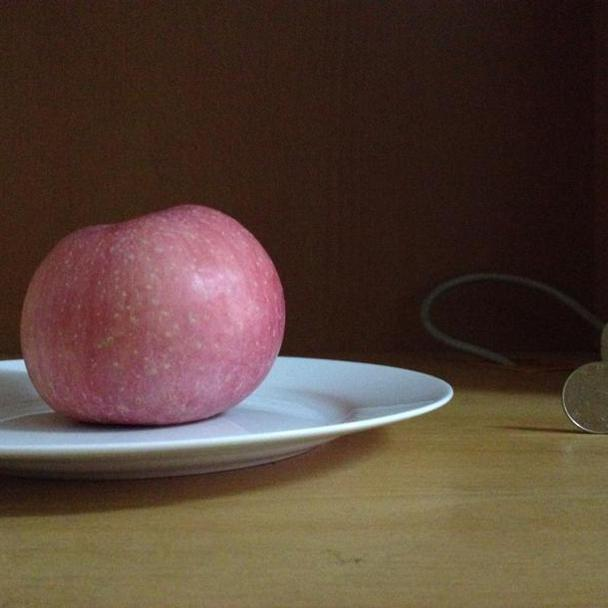apple: (18, 205, 287, 430)
